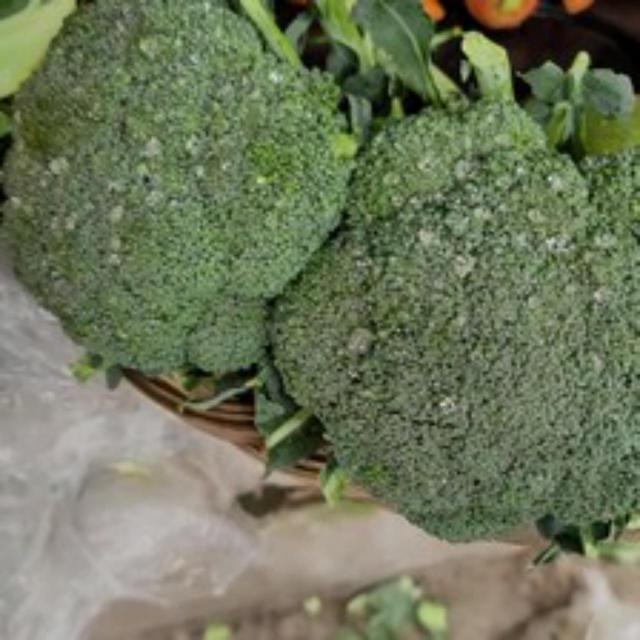broccoli: (270, 98, 640, 560)
